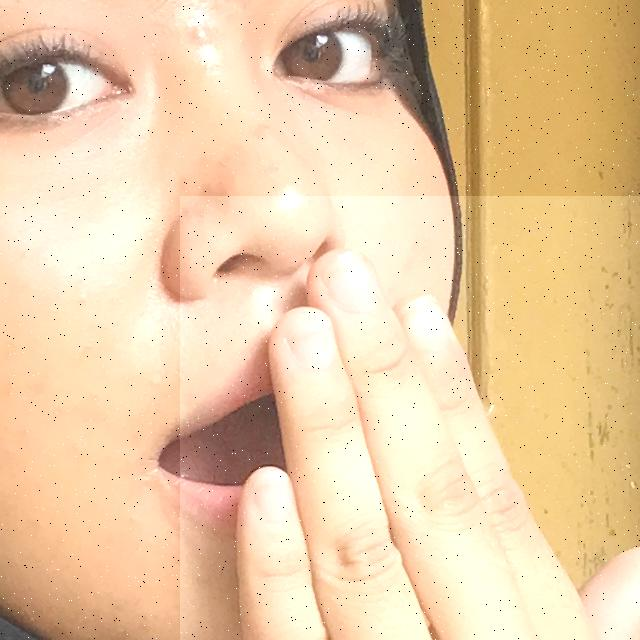ngantuk: (180, 196, 640, 640)
